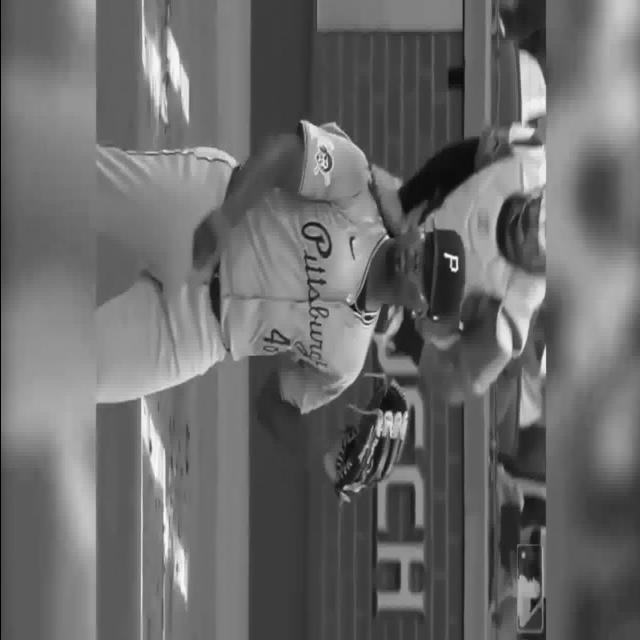baseball_glove: (338, 383, 409, 506)
